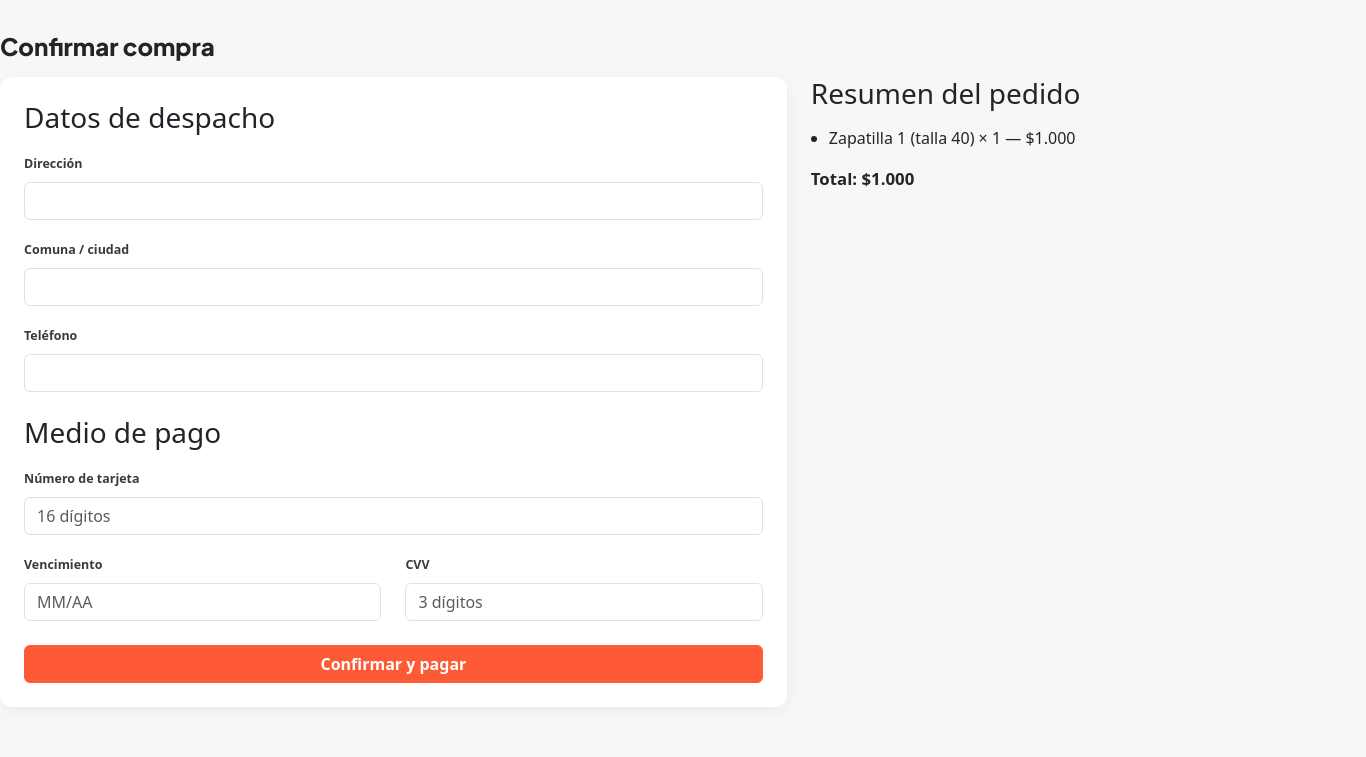
CheckoutForm › muestra errores cuando los datos son inválidos
The image size is (1366, 757).
Click the button "Confirmar y pagar".
click(393, 664)  # box left=24, top=645, right=763, bottom=683
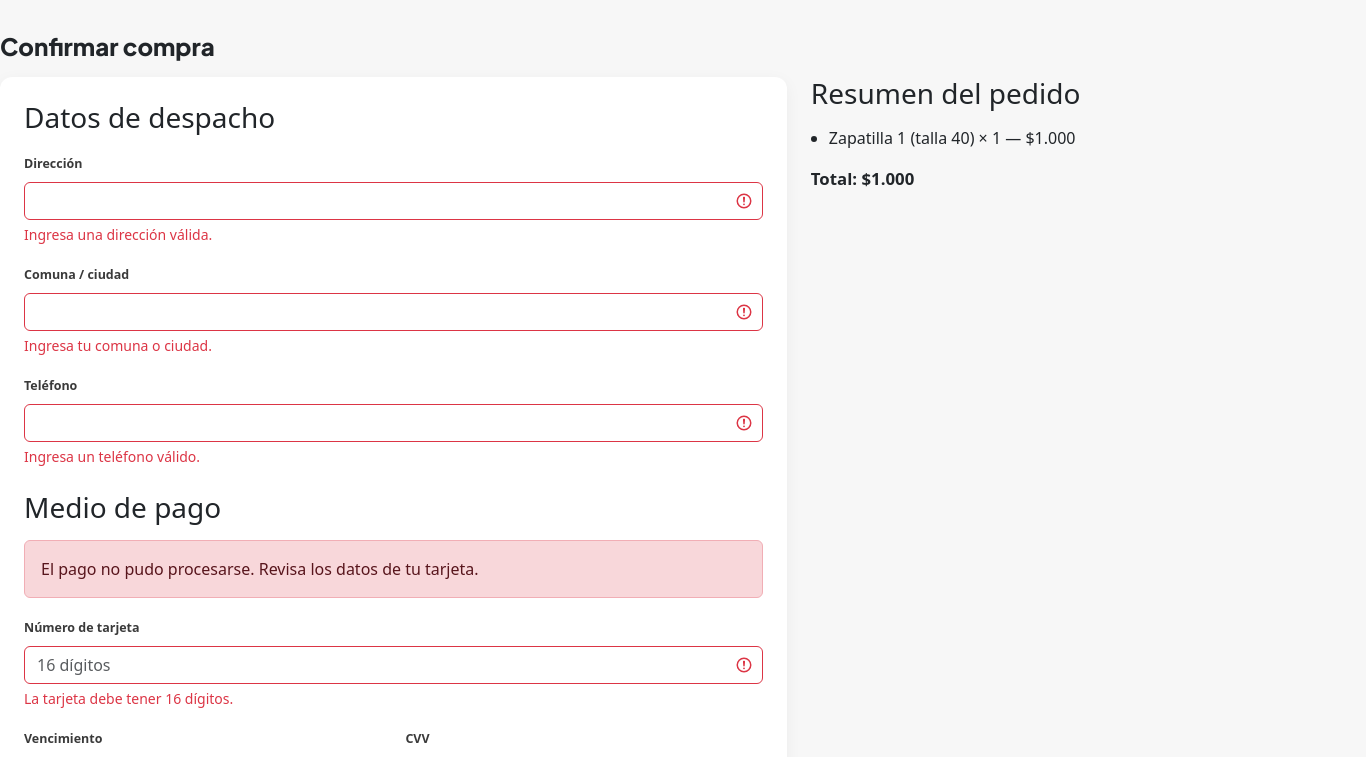
Expected: the text "Ingresa una dirección válida." is shown, left=24, top=225, right=212, bottom=244
